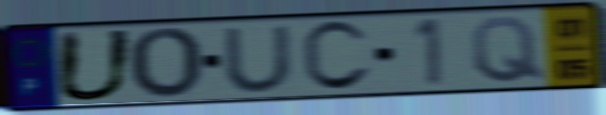1: (411, 15, 445, 89)
C: (298, 18, 374, 95)
O: (124, 25, 206, 102)
Q: (467, 13, 548, 85)
U: (53, 27, 138, 105), (219, 23, 297, 95)
